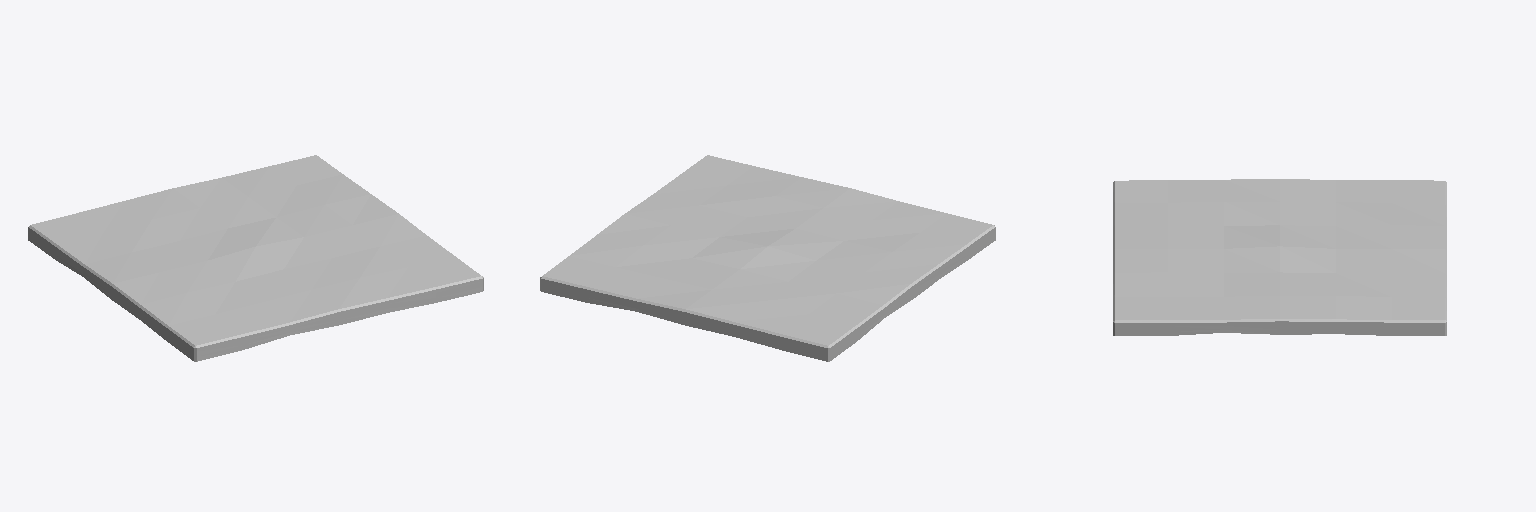
The model's file is StonePlatformobj1.obj.
3 renders of one model, left to right at view 1: azimuth 30°, elevation 25°; view 2: azimuth 150°, elevation 25°; view 3: azimuth 270°, elevation 25°, orthographic.
Parts seen in each view (by area): view 1: ZBrush_defualt_group; view 2: ZBrush_defualt_group; view 3: ZBrush_defualt_group.
Boxes of the visible parts, x1=… form: ZBrush_defualt_group: x1=28, y1=155, x2=483, y2=361; ZBrush_defualt_group: x1=540, y1=155, x2=995, y2=361; ZBrush_defualt_group: x1=1113, y1=179, x2=1446, y2=335.
Size of the model in its own units: 10.01 by 0.6347 by 10.01.